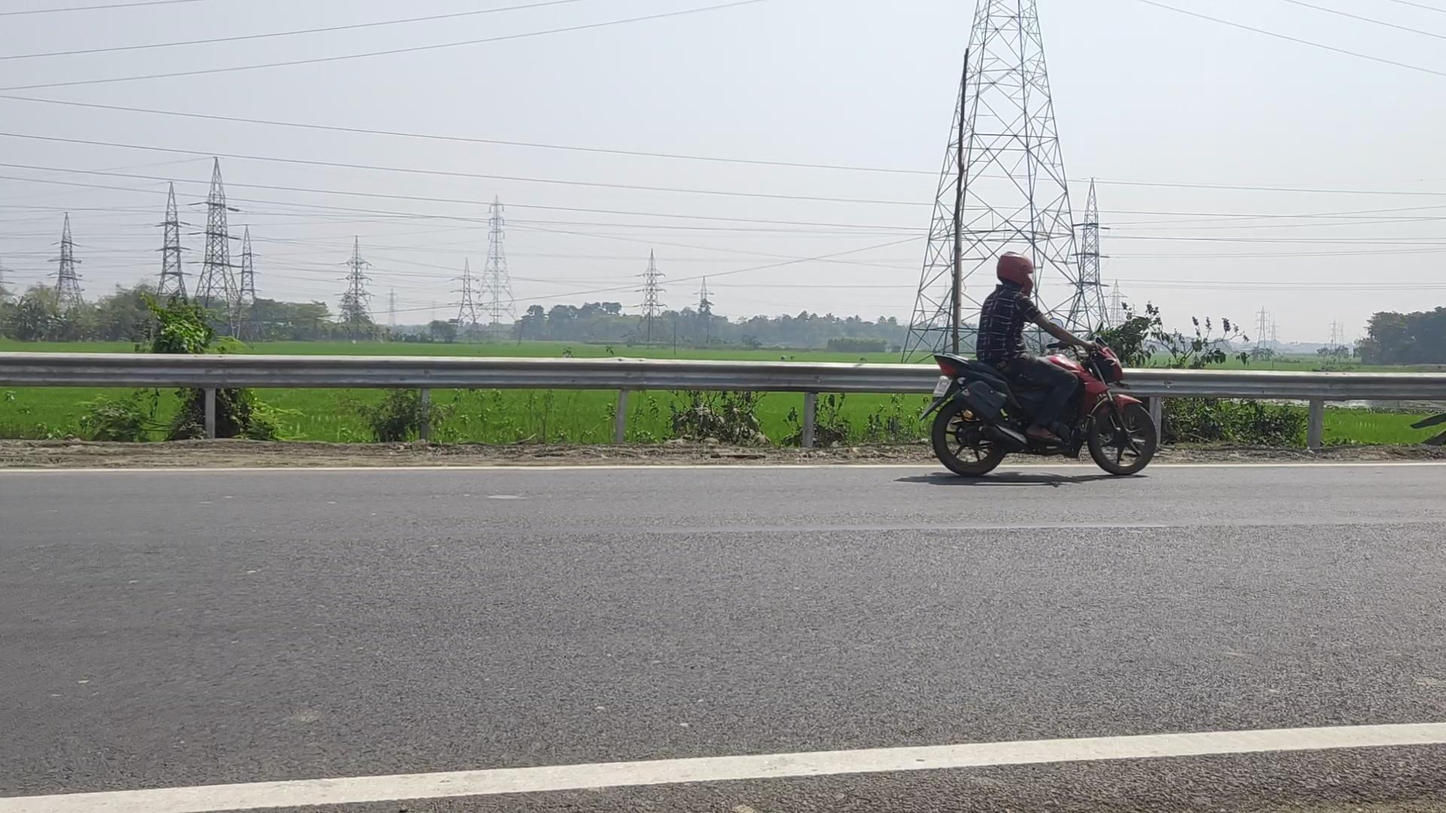bike: (922, 252, 1158, 483)
